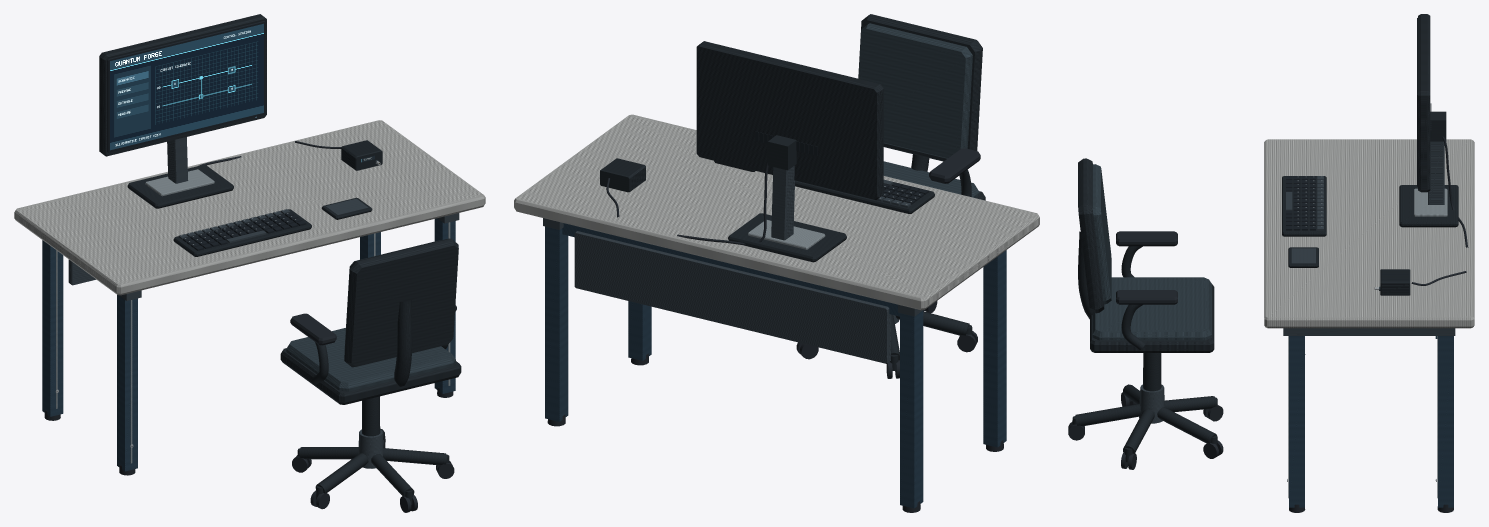
The model's file is workstation.glb.
3 renders of one model, left to right at view 1: azimuth 30°, elevation 25°; view 2: azimuth 150°, elevation 25°; view 3: azimuth 270°, elevation 25°, orthographic. The views are drawn at different scales.
Parts seen in each view (by area): view 1: workstation; view 2: workstation; view 3: workstation.
Boxes of the visible parts, <box> form: workstation: <box>14,14,485,512</box>; workstation: <box>514,14,1039,512</box>; workstation: <box>1068,14,1474,512</box>.
Size of the model in its own units: 1.45 by 1.36 by 1.39.
Materials: 13 (10 with a texture image).
